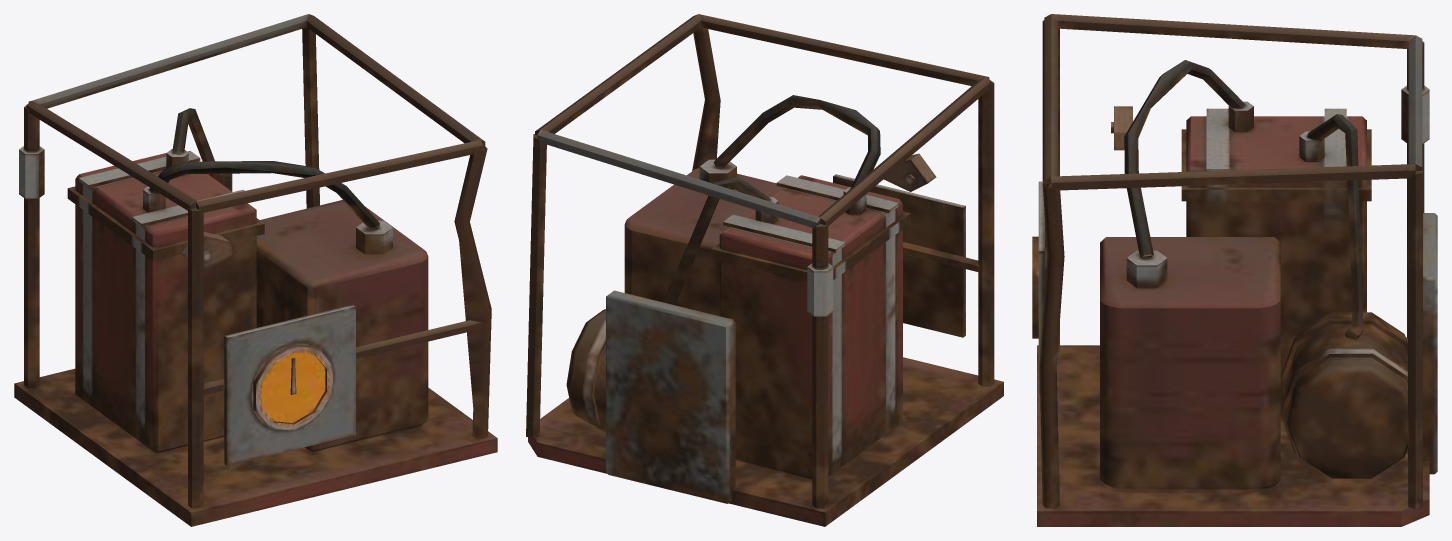
File: R4X_Battery_LOD1.glb
3 renders of one model, left to right at view 1: azimuth 30°, elevation 25°; view 2: azimuth 150°, elevation 25°; view 3: azimuth 270°, elevation 25°, orthographic. The views are drawn at different scales.
Parts seen in each view (by area): view 1: R4X_Battery_LOD1; view 2: R4X_Battery_LOD1; view 3: R4X_Battery_LOD1.
Boxes of the visible parts, x1,y1,x2,y2 form: R4X_Battery_LOD1: (14, 14, 497, 526); R4X_Battery_LOD1: (526, 14, 1003, 526); R4X_Battery_LOD1: (1032, 14, 1437, 526).
Bounding box in the file's own units: 0.5 × 0.496 × 0.516.
Materials: 5 (5 with a texture image).
